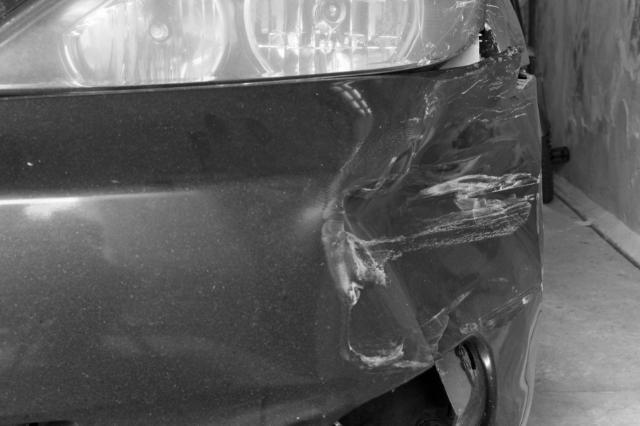Bumper: (156, 86, 561, 401)
Fender: (453, 0, 531, 81)
